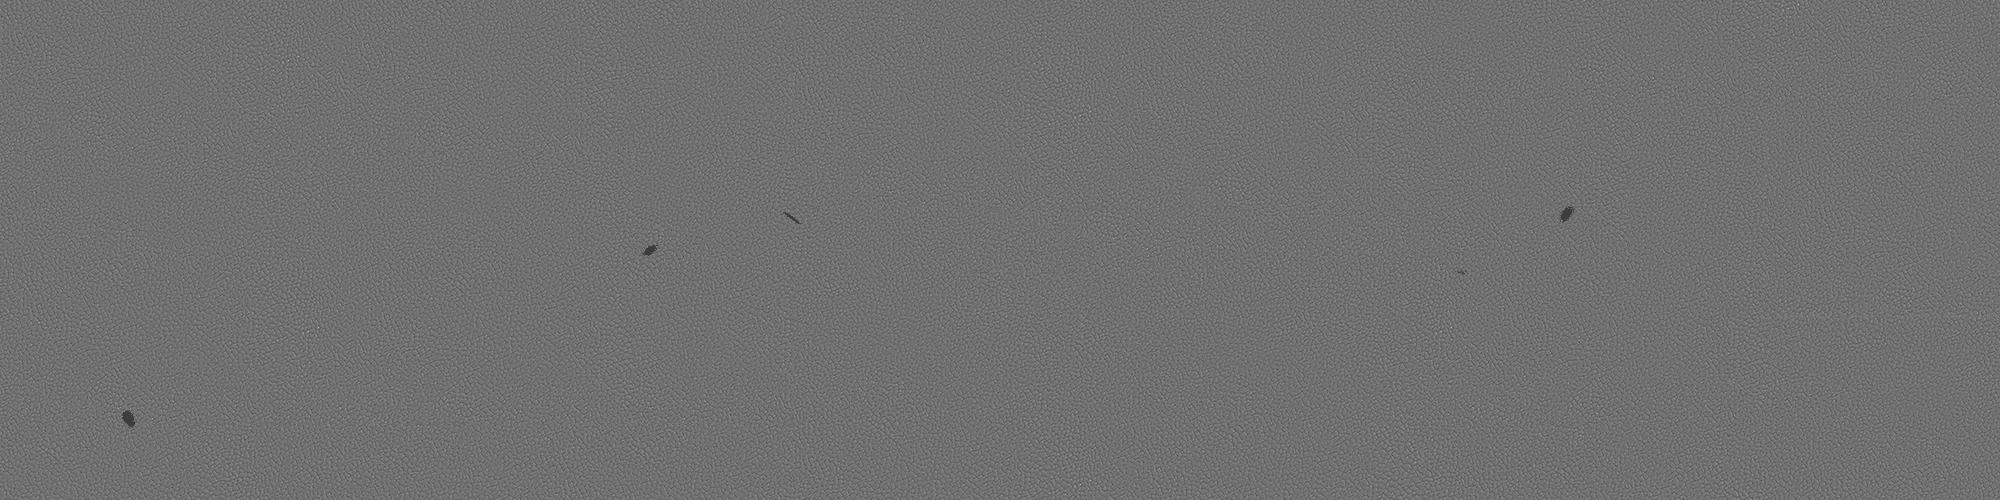Decomposed: (1554, 196, 1579, 228), (112, 409, 143, 430), (781, 205, 804, 231), (638, 242, 659, 261), (1446, 267, 1469, 282)
